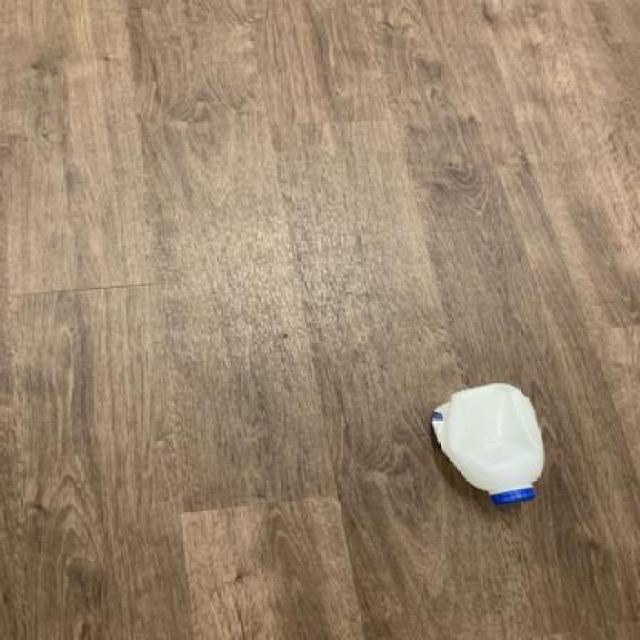trash: (430, 383, 547, 508)
